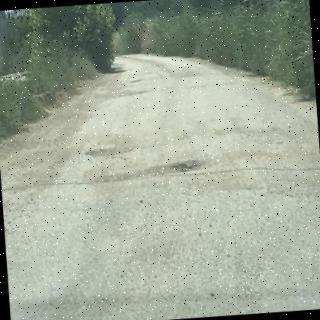pothole: (98, 160, 205, 182), (85, 141, 134, 157)
